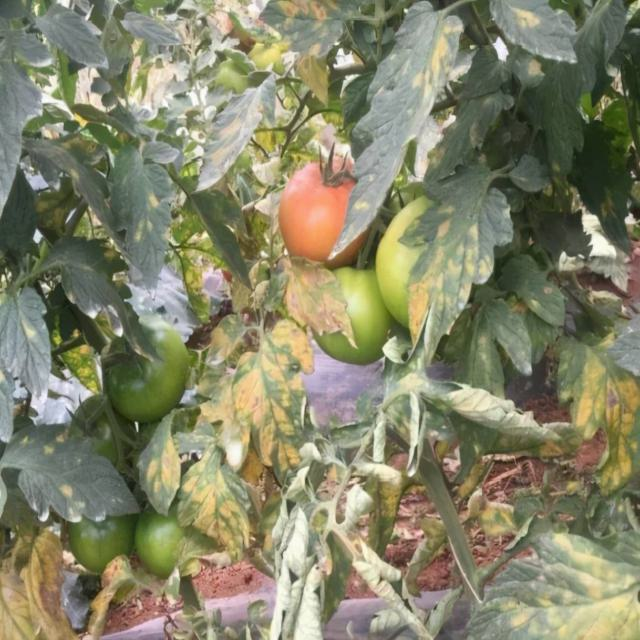Leaf_Mold: (498, 534, 640, 640), (559, 335, 640, 500), (406, 199, 492, 351), (232, 321, 316, 474), (260, 253, 361, 350), (3, 528, 76, 640), (182, 454, 258, 558), (272, 1, 341, 106), (196, 371, 251, 470), (411, 16, 463, 110), (205, 97, 266, 177), (81, 550, 130, 640), (141, 427, 183, 511), (364, 468, 411, 526), (465, 491, 514, 538), (202, 317, 244, 365), (509, 3, 546, 34), (535, 435, 562, 458), (58, 474, 78, 501), (524, 52, 544, 76), (144, 190, 160, 208)
